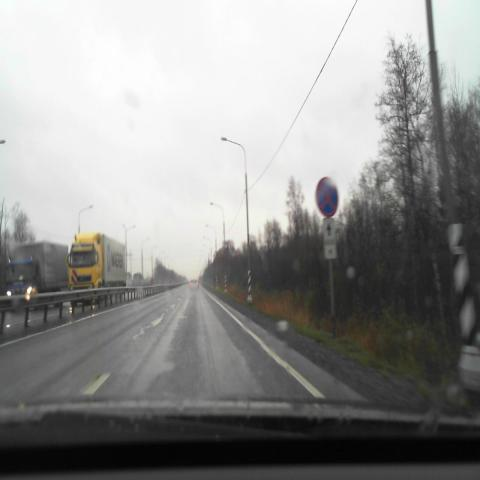3_27: (316, 176, 338, 216)
8_2_2: (324, 220, 337, 260)
